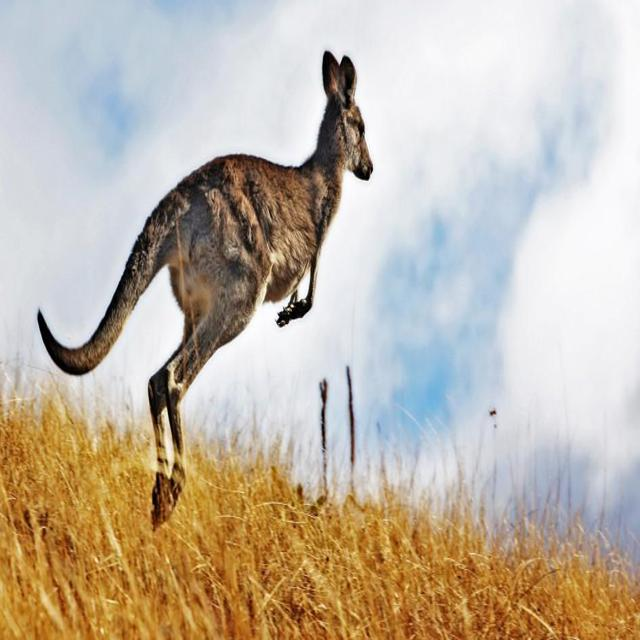kangaroo: (124, 55, 381, 537)
